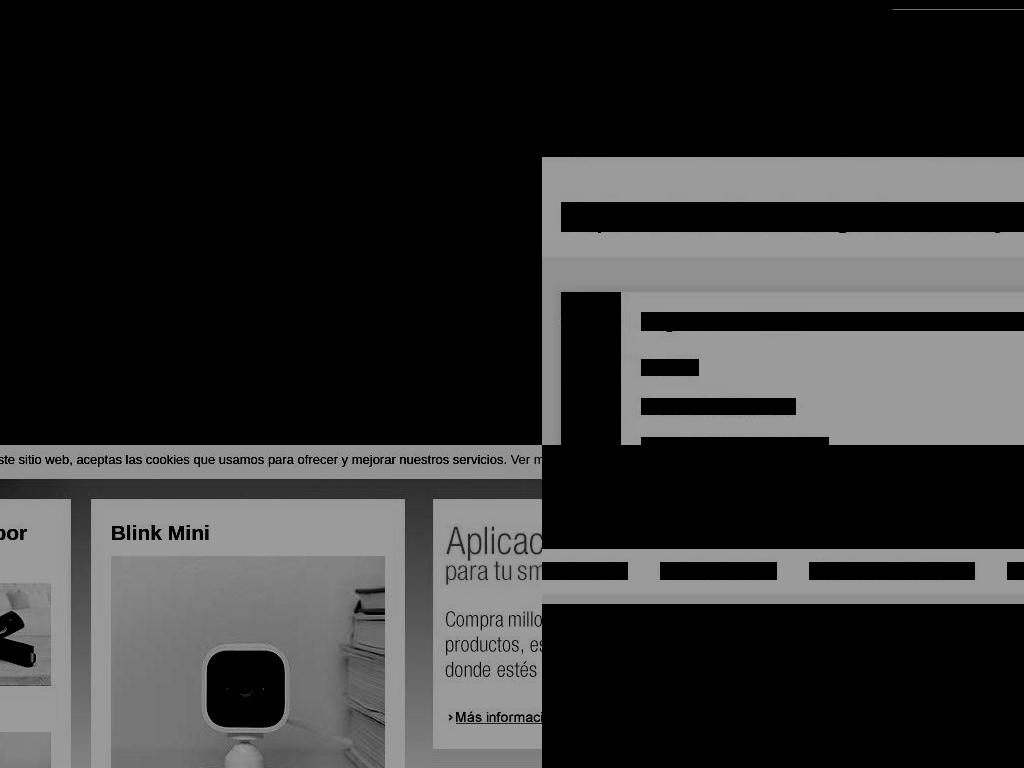button: (0, 0, 198, 385), (197, 180, 539, 385), (197, 0, 539, 179), (110, 556, 386, 768), (197, 386, 539, 445), (0, 386, 198, 445), (542, 0, 790, 39), (0, 583, 51, 686), (876, 21, 988, 51)
heading: (561, 202, 1024, 232), (212, 319, 481, 367), (110, 519, 386, 546), (641, 312, 1024, 331), (0, 294, 94, 366), (212, 140, 498, 161), (0, 254, 139, 286), (212, 118, 520, 132), (212, 297, 520, 311), (0, 231, 179, 245)
iframe: (432, 499, 542, 749)
image: (542, 604, 1024, 768), (110, 556, 386, 768), (542, 0, 790, 39), (0, 583, 51, 686), (561, 292, 621, 362), (542, 77, 581, 157)
link: (809, 562, 975, 580), (641, 398, 796, 415), (660, 562, 777, 580), (542, 562, 628, 580), (641, 437, 829, 445), (641, 359, 699, 376), (510, 452, 542, 467)
text: (0, 452, 508, 467), (620, 48, 835, 66), (896, 27, 967, 44)
